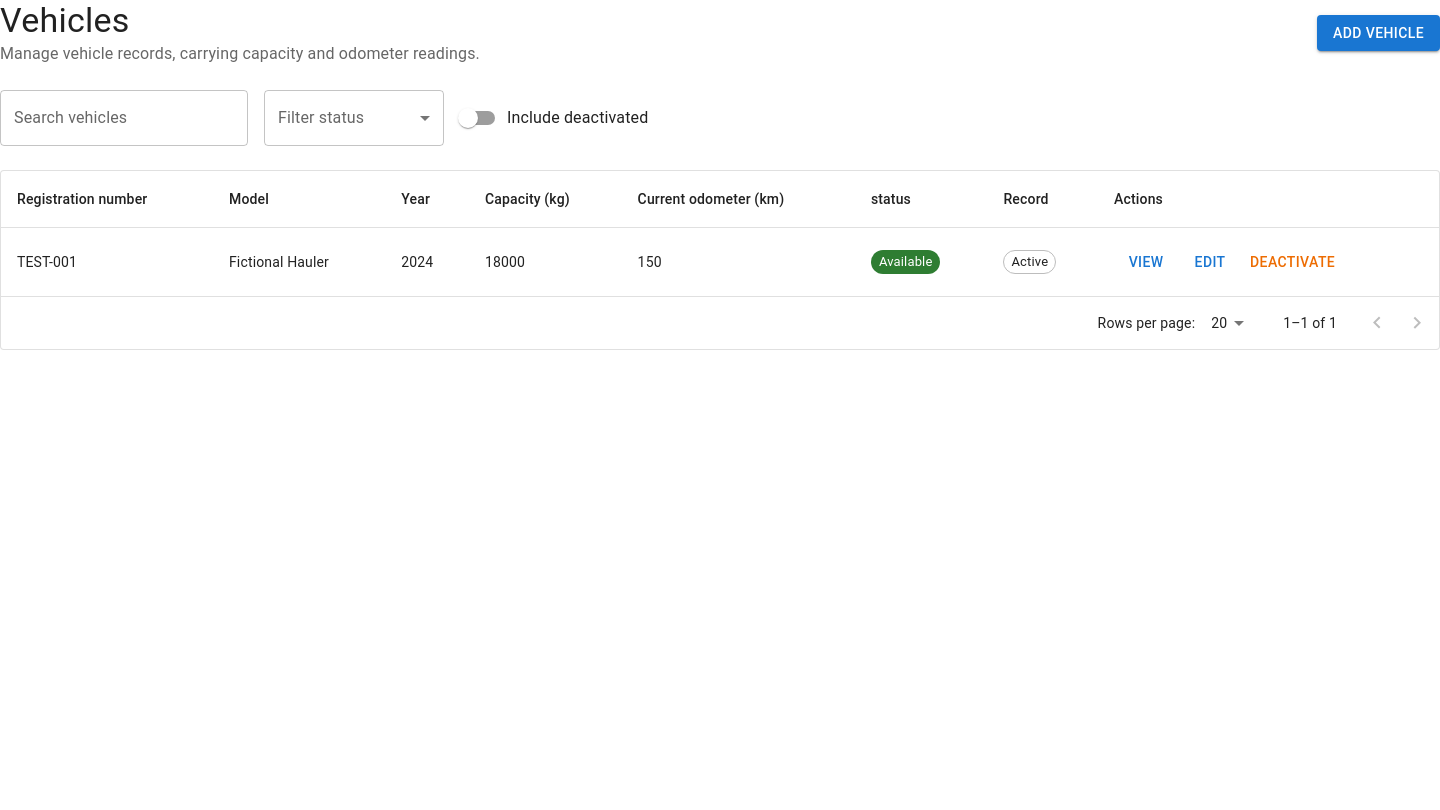
Test: renders API records and a read-only detail view
Check: the table named "Vehicles" is shown, box [1, 171, 1439, 298]
Check: the text "TEST-001" is shown, box [1, 228, 213, 297]
Click the button "View" at (1146, 262), box [1114, 244, 1178, 280]
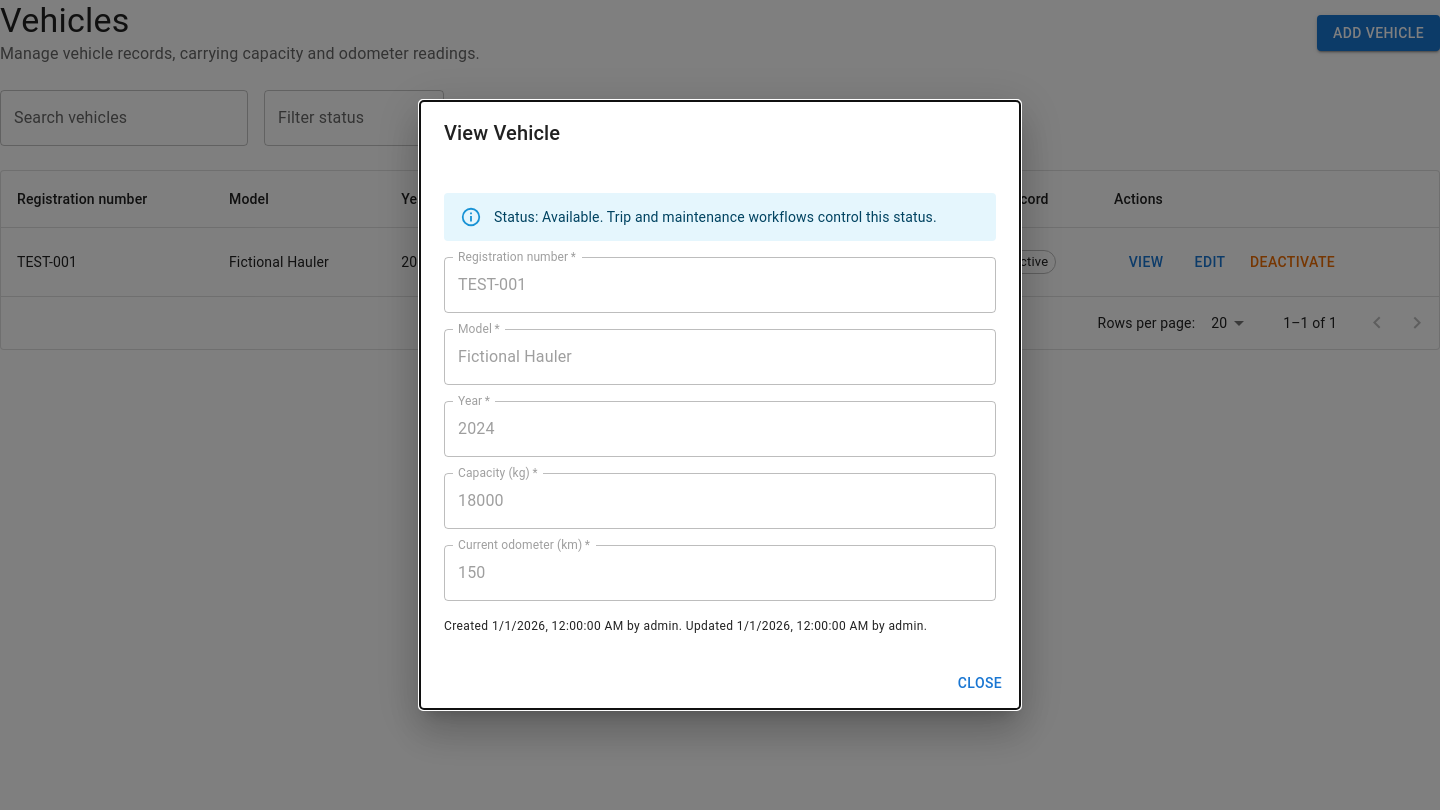
Check: the field labelled "Registration number" is disabled, box [444, 257, 996, 313]
